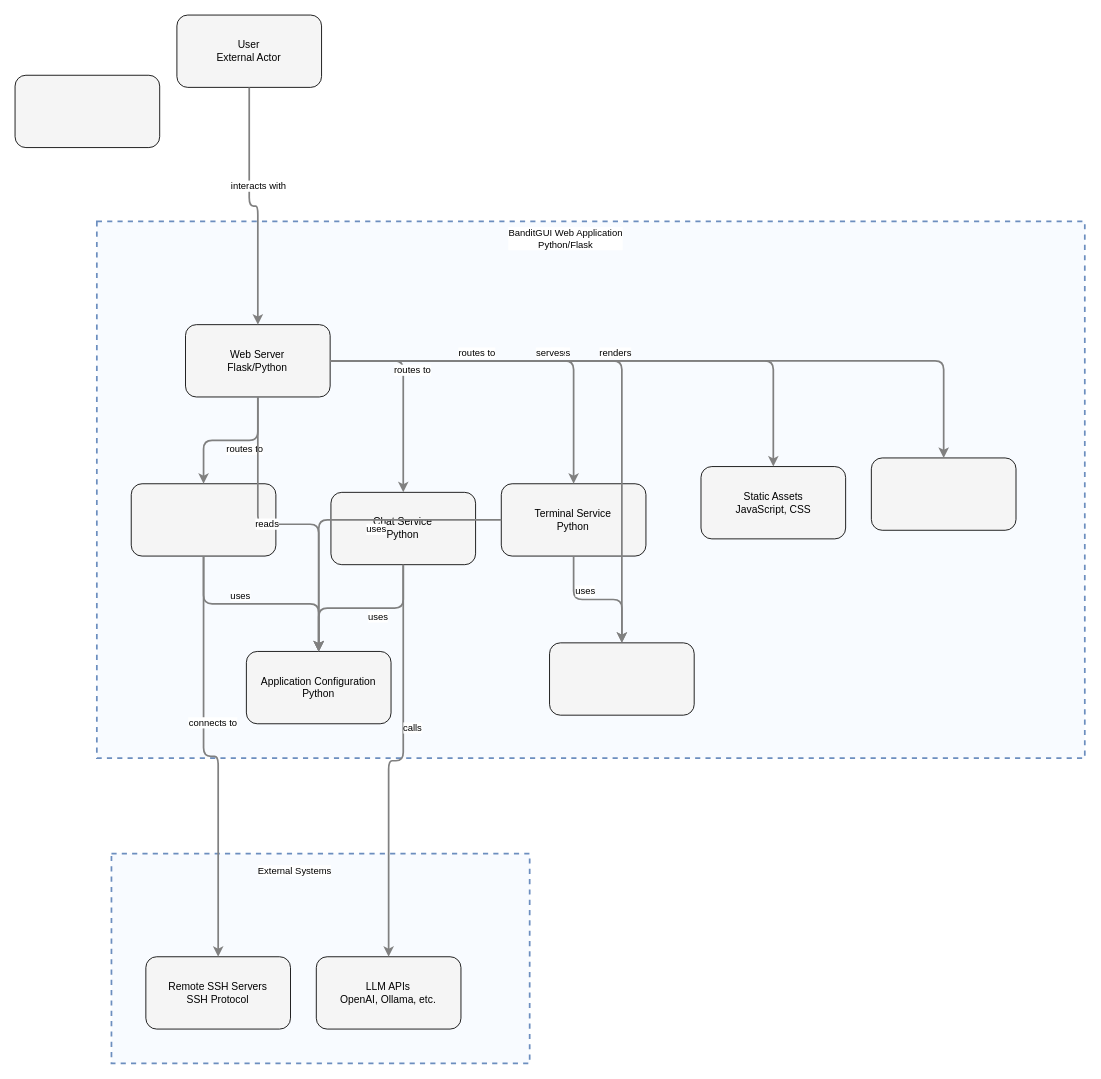
The diagram is 1101 pixels wide and 1079 high, and some of its shapes have lost their labels. The box of each missing label's shape, as (x1, y1, x2, y2) in pixels:
Data Utilities Python: (549, 642, 694, 715)
HTML Templates HTML/Jinja2: (870, 457, 1016, 530)
Installer Script Python: (14, 74, 160, 148)
SSH Service Python/Paramiko: (130, 483, 276, 556)
